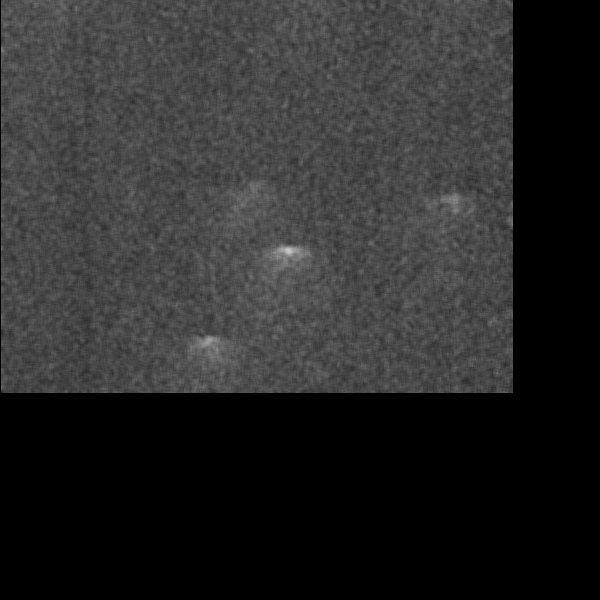spark: (428, 187, 474, 245), (266, 239, 306, 284), (193, 328, 227, 378)
